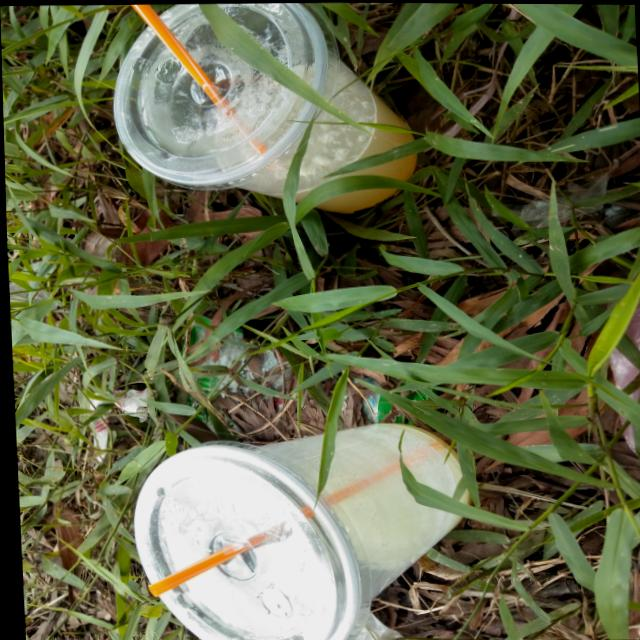Cup: (114, 407, 480, 640), (65, 0, 438, 222)
Paper: (75, 375, 156, 467)
Plastic: (163, 294, 287, 405), (584, 254, 640, 466)
